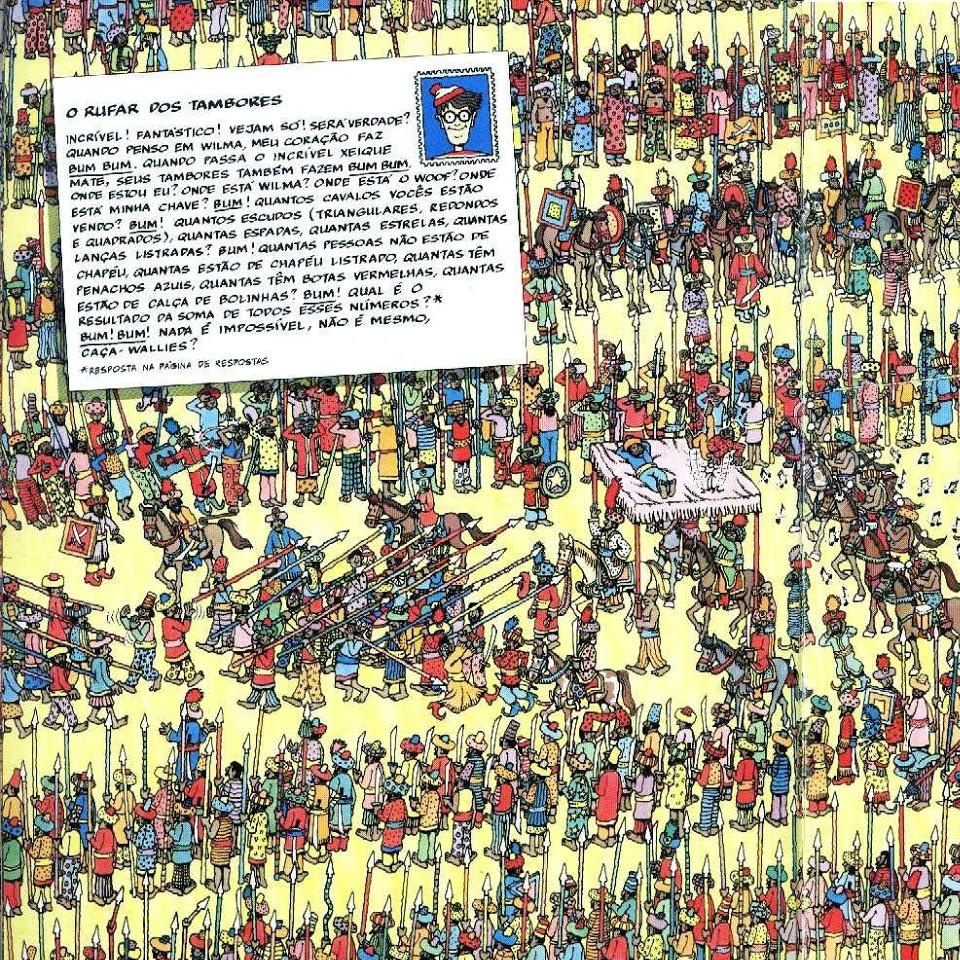waldo: (429, 85, 492, 157), (716, 157, 733, 184)
